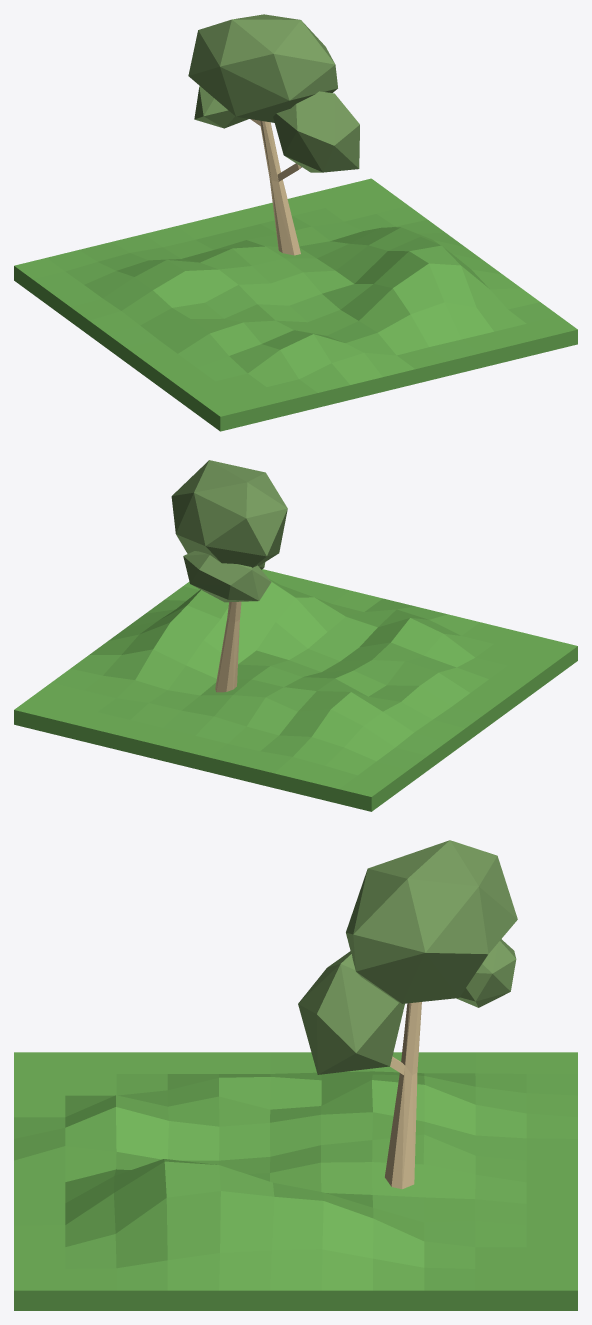
Rendered from park-1x1-01.glb.
3 renders of one model, top to bottom at view 1: azimuth 30°, elevation 25°; view 2: azimuth 150°, elevation 25°; view 3: azimuth 270°, elevation 25°, orthographic. The views are drawn at different scales.
Visible parts, largest first — view 1: Cube, Sphere, Sphere.002, Cylinder, Sphere.001; view 2: Cube, Sphere, Sphere.001, Cylinder; view 3: Cube, Sphere, Sphere.002, Cylinder, Sphere.001.
Boxes of the visible parts, x1=… form: Cube: x1=14, y1=178, x2=577, y2=431; Sphere: x1=188, y1=14, x2=337, y2=122; Sphere.002: x1=273, y1=91, x2=359, y2=172; Cylinder: x1=250, y1=119, x2=301, y2=255; Sphere.001: x1=194, y1=86, x2=248, y2=128; Cube: x1=14, y1=569, x2=577, y2=811; Sphere: x1=171, y1=460, x2=287, y2=567; Sphere.001: x1=183, y1=551, x2=271, y2=602; Cylinder: x1=215, y1=601, x2=241, y2=692; Cube: x1=14, y1=1052, x2=577, y2=1310; Sphere: x1=346, y1=840, x2=517, y2=1003; Sphere.002: x1=298, y1=951, x2=404, y2=1074; Cylinder: x1=385, y1=1002, x2=421, y2=1189; Sphere.001: x1=456, y1=939, x2=516, y2=1007.
Size of the model in its own units: 2 by 1.36 by 2.
